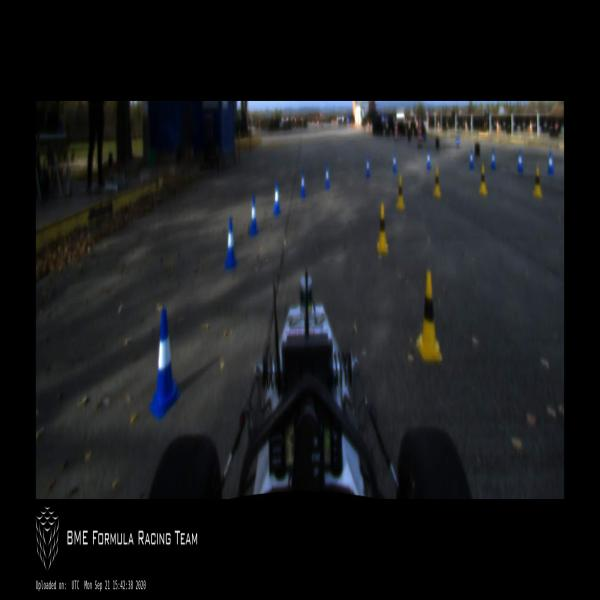blue_cone: (148, 306, 181, 419), (224, 216, 238, 268), (248, 195, 258, 235), (272, 182, 280, 216), (299, 169, 306, 196), (548, 150, 554, 176), (324, 163, 330, 189), (517, 150, 523, 172), (468, 148, 474, 168), (490, 148, 496, 168), (426, 147, 431, 167), (366, 155, 370, 178), (392, 153, 396, 173), (456, 136, 460, 149)
yellow_cone: (416, 273, 441, 362), (375, 205, 389, 254), (396, 174, 406, 210), (532, 166, 542, 197), (432, 167, 441, 199), (479, 162, 487, 194)
